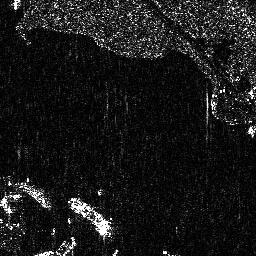ship: (68, 197, 112, 237)
